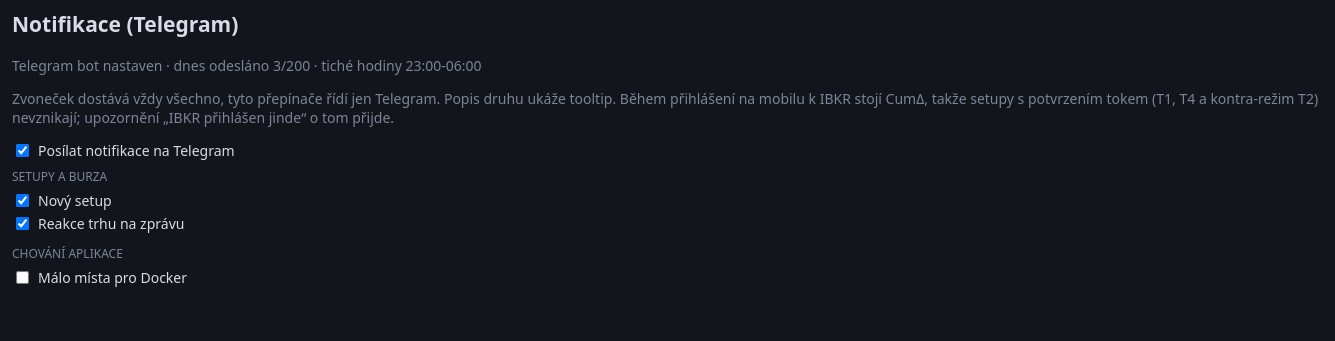
Scenario: odmítnutý zápis ukáže chybu a checkbox se nepřepne
The width and height of the screenshot is (1335, 341).
Click the checkbox named "Telegram: Nový setup" at (22, 200), box top-left (16, 194), bottom-right (29, 207)
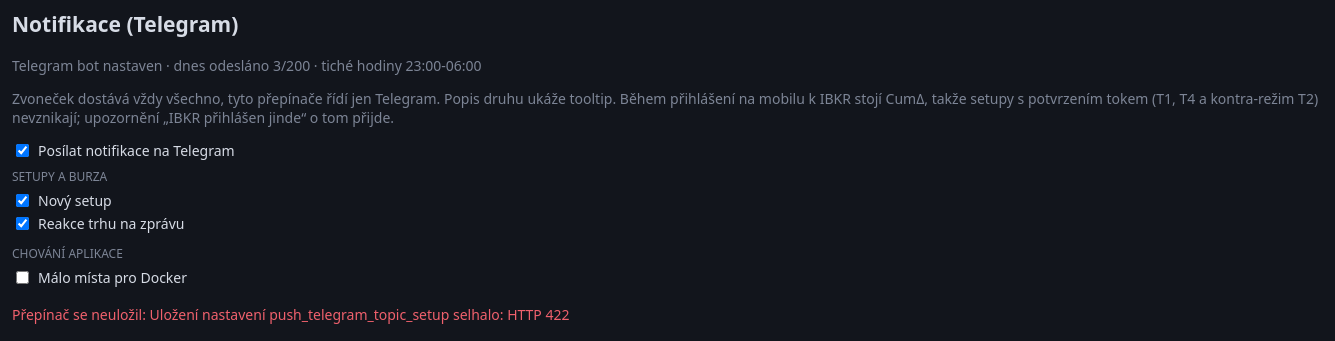
Expected: the message shows "HTTP 422", top-left (150, 305), bottom-right (570, 324)
